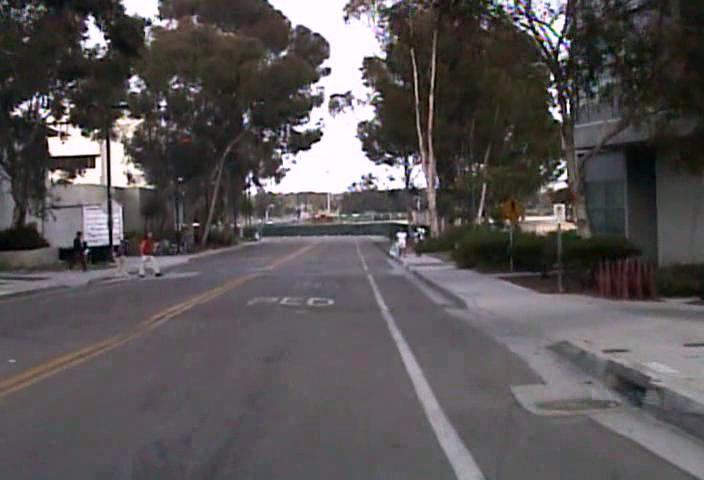pedestrianCrossing: (499, 192, 525, 223)
